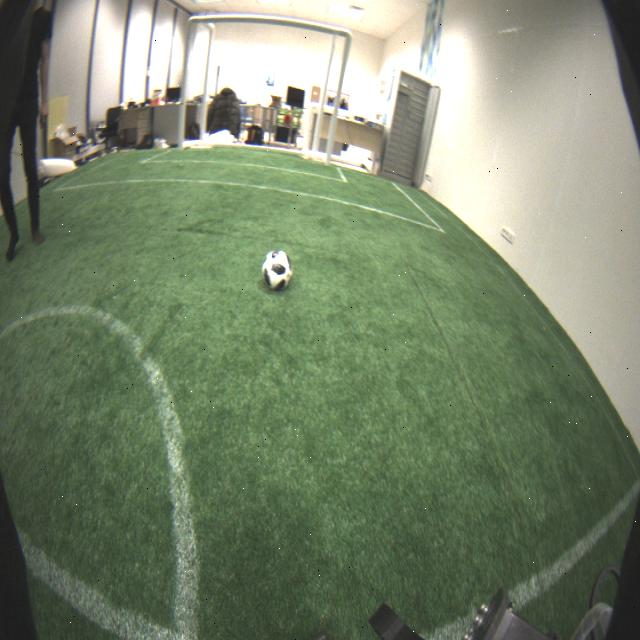ball: (262, 250, 292, 292)
goalpost: (324, 28, 353, 162), (177, 17, 195, 148)
